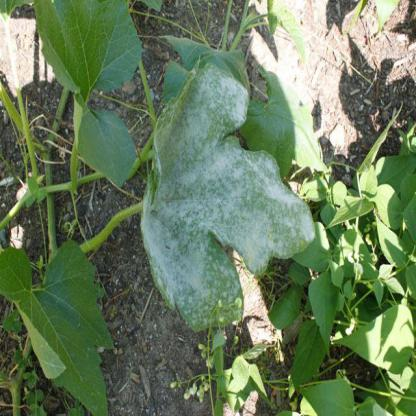squash powdery mildew leaf: (137, 49, 315, 334)
